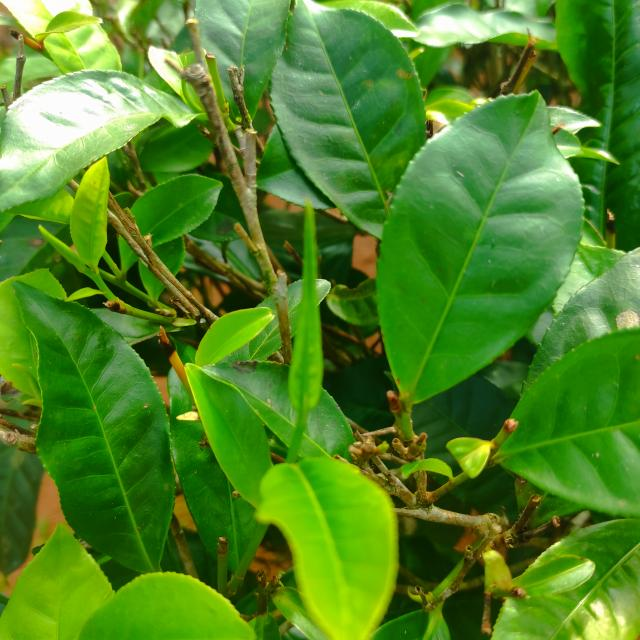unopened_leaf: (277, 192, 331, 433), (32, 221, 93, 280)
